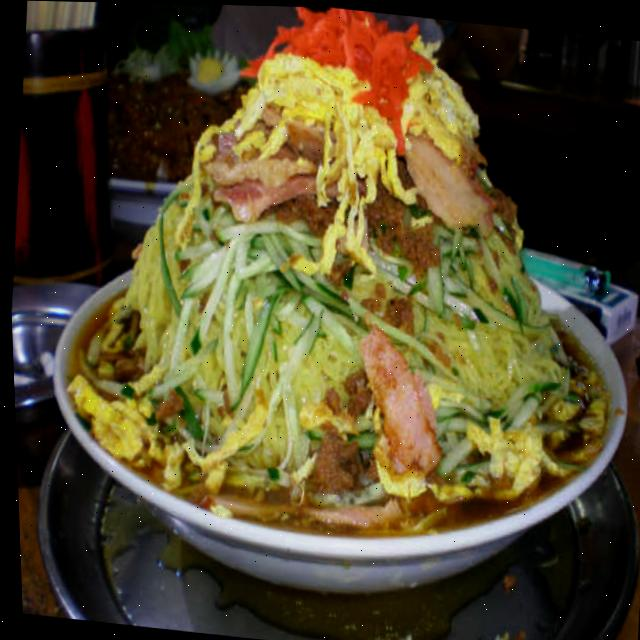面条主食: (12, 0, 640, 598)
